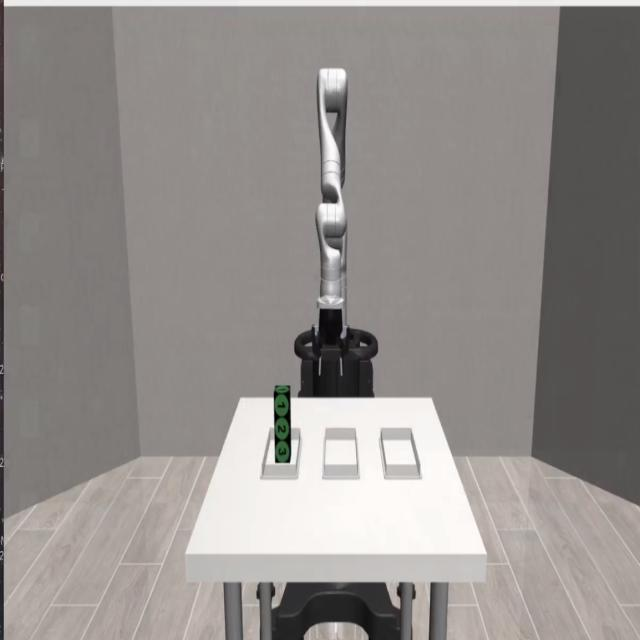cube1: (274, 386, 290, 421)
cube2: (273, 417, 292, 440)
cube3: (275, 441, 292, 462)
